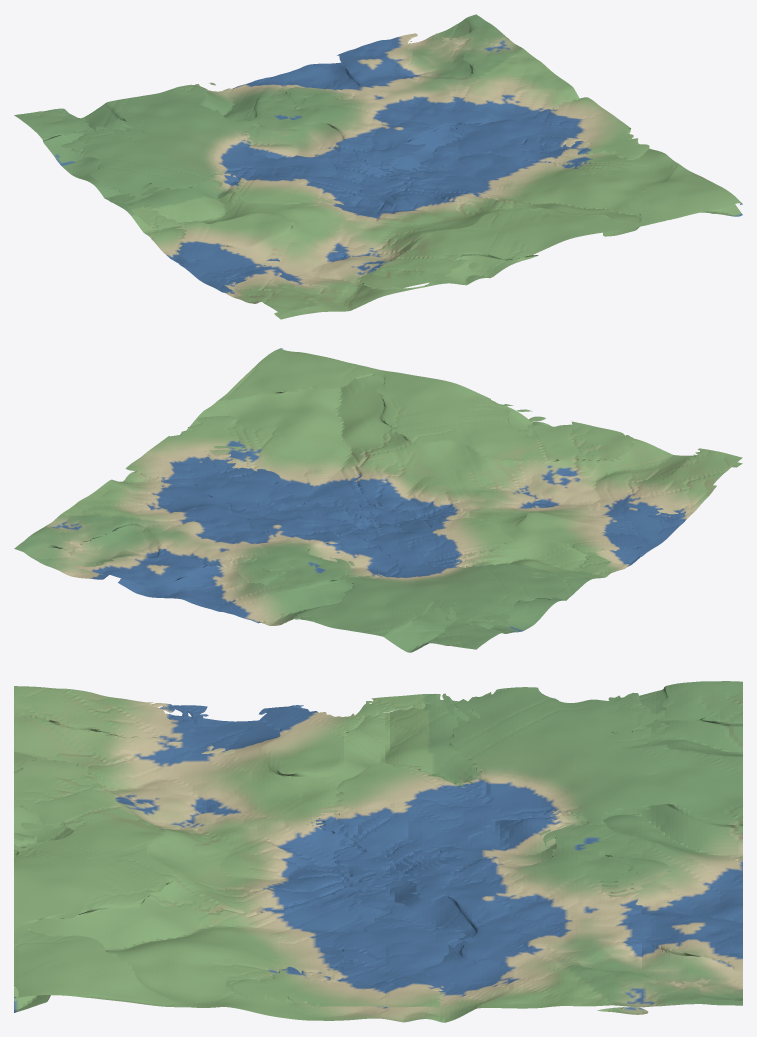
The model's file is cave-4.glb.
3 views of the same model, one above another, from view 1: azimuth 30°, elevation 25°; view 2: azimuth 150°, elevation 25°; view 3: azimuth 270°, elevation 25° (orthographic). The views are drawn at different scales.
Parts seen in each view (by area): view 1: terrain; view 2: terrain; view 3: terrain.
Boxes of the visible parts, x1,y1,x2,y2 form: terrain: (14,14,742,319); terrain: (14,348,742,652); terrain: (14,681,742,1022).
Size of the model in its own units: 1200 by 88.79 by 1200.
